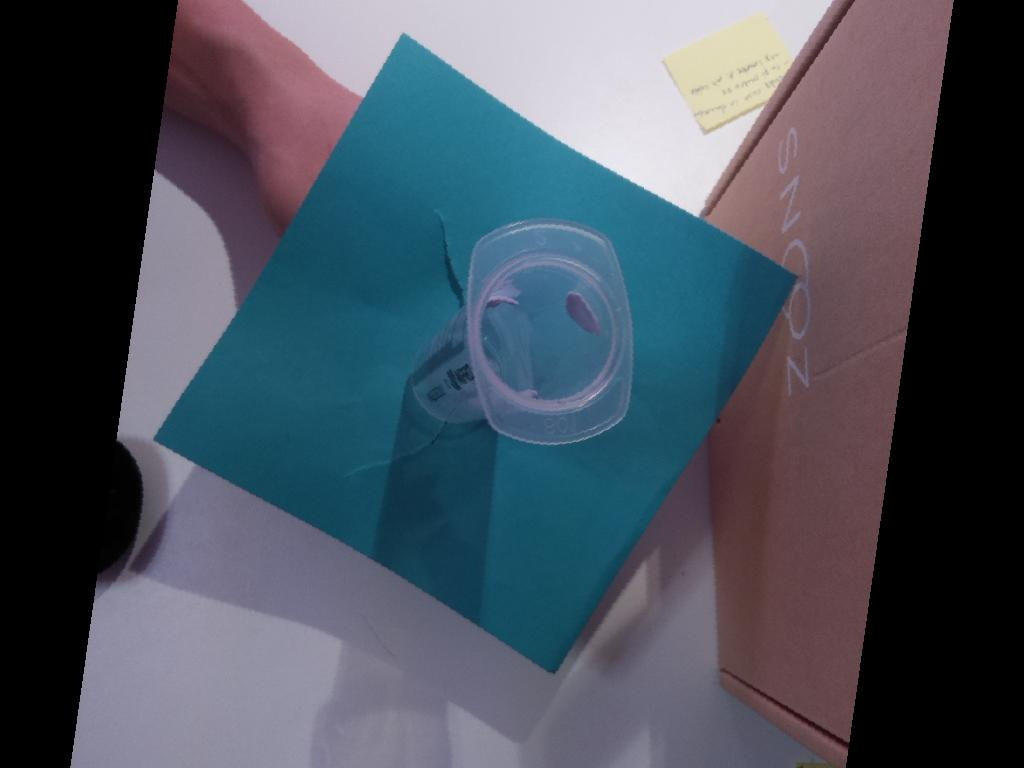dirty: (464, 216, 634, 448)
